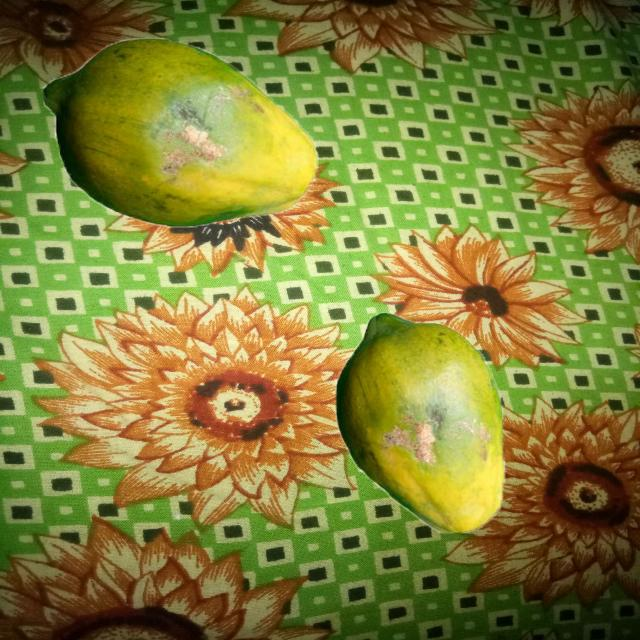Pepaya rippen: (34, 41, 328, 238), (341, 312, 516, 536)
